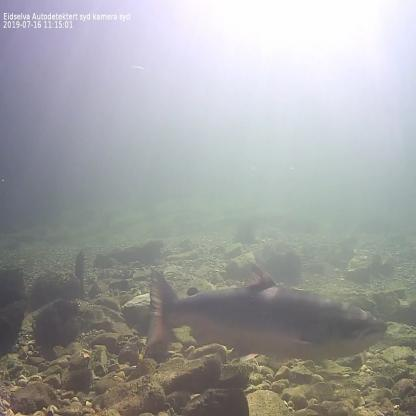salmon: (143, 262, 390, 364)
